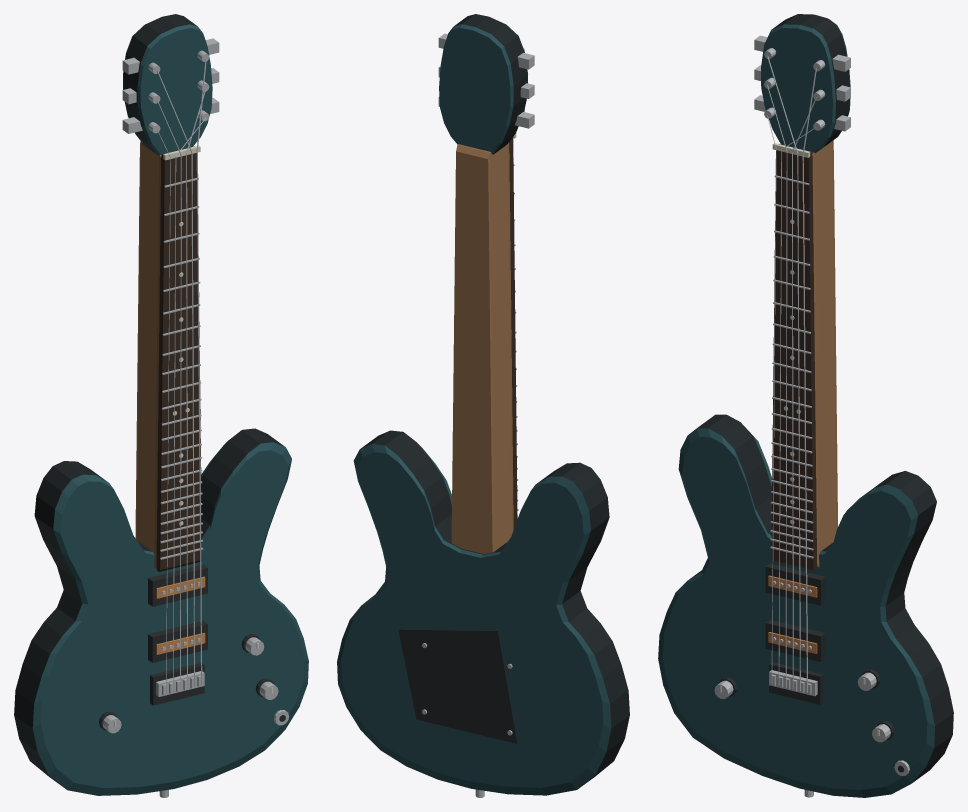
File: ironwake_breaker_g6.glb
3 views of the same model, side by side, from view 1: azimuth 30°, elevation 25°; view 2: azimuth 150°, elevation 25°; view 3: azimuth 330°, elevation 25° (orthographic).
Parts seen in each view (by area): view 1: Ironwake_Breaker_G6; view 2: Ironwake_Breaker_G6; view 3: Ironwake_Breaker_G6.
Boxes of the visible parts, x1,y1,x2,y2 form: Ironwake_Breaker_G6: [14, 14, 308, 797]; Ironwake_Breaker_G6: [337, 14, 629, 797]; Ironwake_Breaker_G6: [658, 14, 953, 797].
Bounding box in the file's own units: 0.3502 × 0.9407 × 0.0707.
